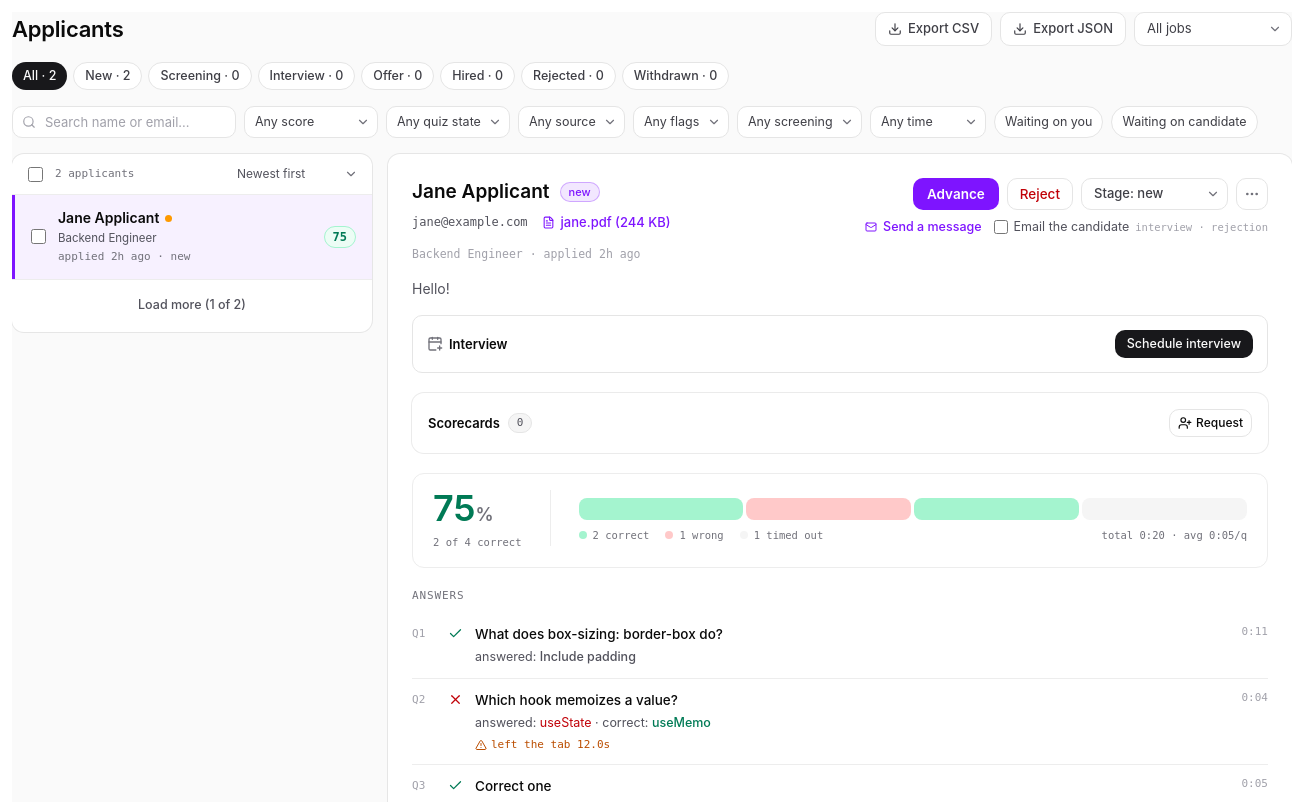
Test: ApplicantsPage › loads more pages and keeps whole-set pill counts
Check: the button "Jane Applicant Backend Engineer applied 2h ago · new 75" is shown, box [58,195,372,279]
Check: the button "All · 2" is shown, box [12,62,67,90]
Step 1. Click the button "Load more (1 of 2)" → point(192, 306), box [126,290,258,322]
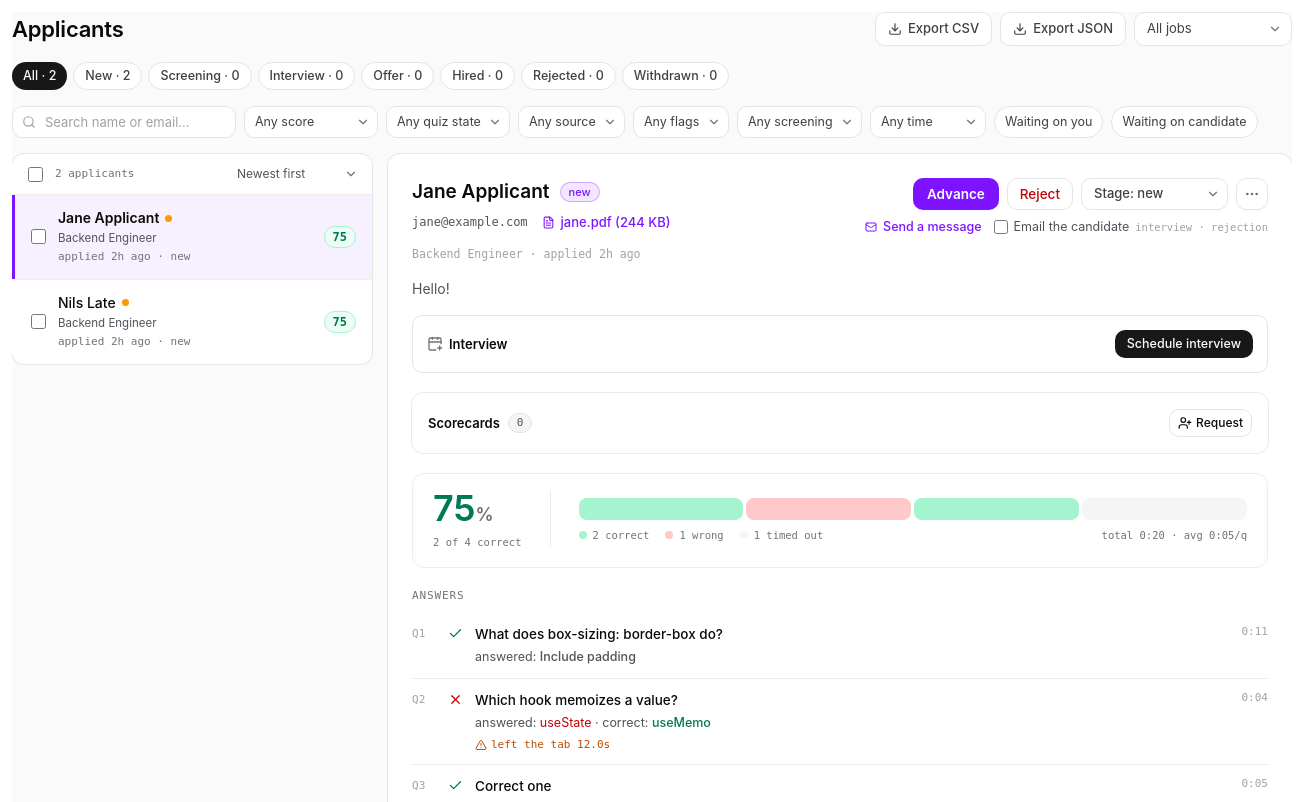
Check: the button "Nils Late Backend Engineer applied 2h ago · new 75" is shown, box [58,280,372,364]
Check: the button "Load more" is gone
